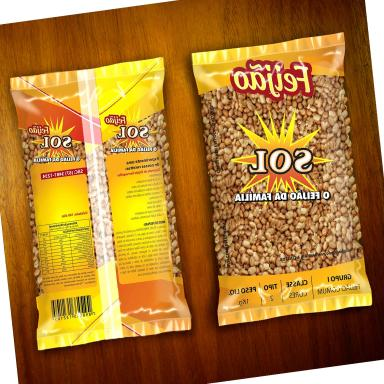beans package: (11, 58, 190, 349), (193, 34, 371, 324)
